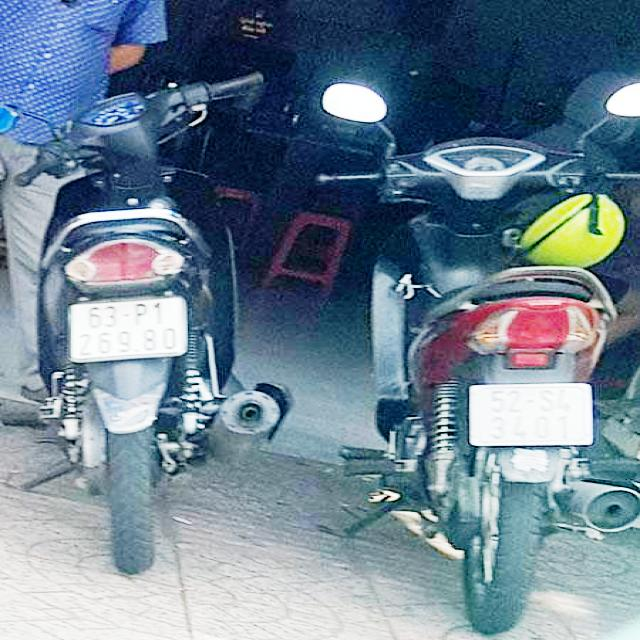license_plate: (72, 297, 188, 360), (474, 386, 587, 445)
